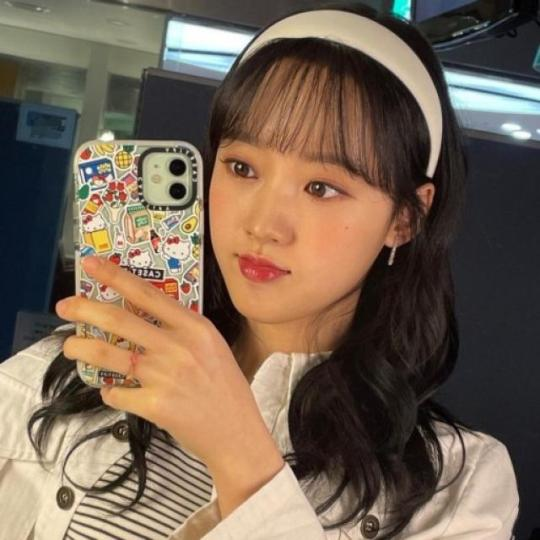phone: (73, 143, 208, 399)
